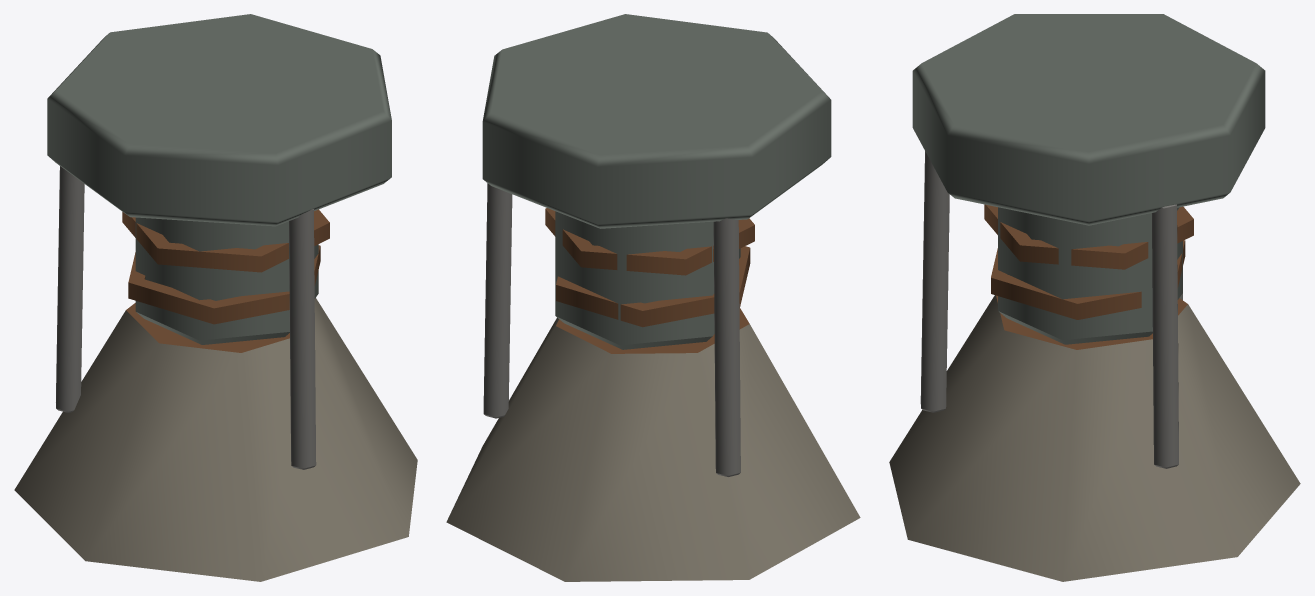
Rendered from R4X_JumpDrive_LOD1.fbx.
3 views of the same model, side by side, from view 1: azimuth 30°, elevation 25°; view 2: azimuth 150°, elevation 25°; view 3: azimuth 270°, elevation 25° (orthographic).
Visible parts, largest first — view 1: R4X_JumpDrive_LOD1; view 2: R4X_JumpDrive_LOD1; view 3: R4X_JumpDrive_LOD1.
Boxes of the visible parts, bbox=[...] form: R4X_JumpDrive_LOD1: bbox=[14, 14, 417, 581]; R4X_JumpDrive_LOD1: bbox=[446, 14, 860, 581]; R4X_JumpDrive_LOD1: bbox=[889, 14, 1300, 581].
Bounding box in the file's own units: 0.4559 × 0.51 × 0.4547.
